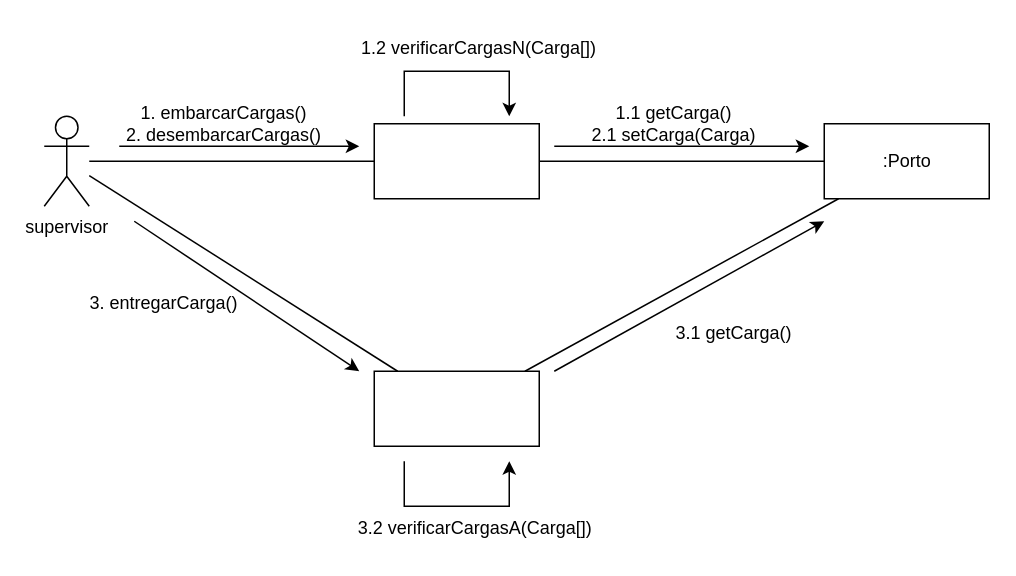
Some shapes in this 1016 by 576 pixel diagram are drawn without their labels. Each missing label, with the centre of its shape:
":Agente" belongs at point (456, 408).
":Navio" belongs at point (456, 160).
